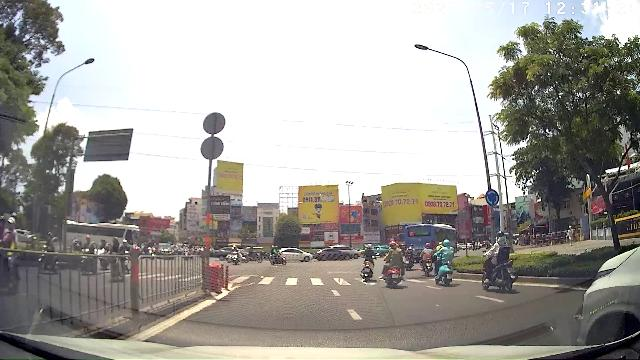303-noi-giao-nhau-chay-theo-vong-xuyen: (485, 190, 499, 207)
